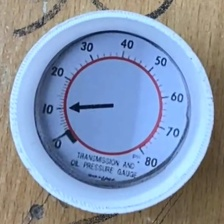gauge: (26, 26, 194, 193)
